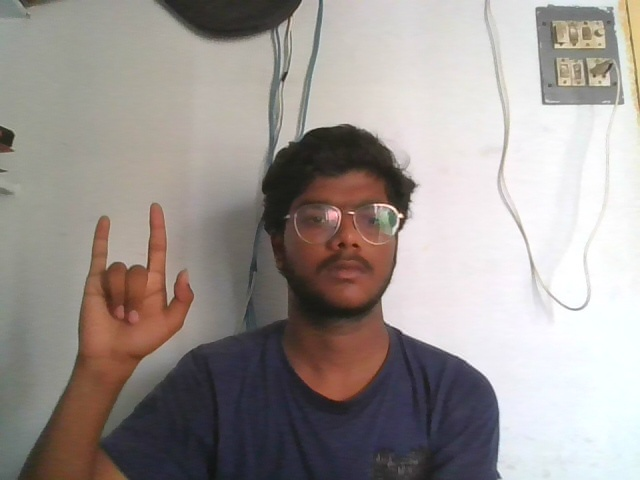IloveYou: (77, 199, 196, 368)
